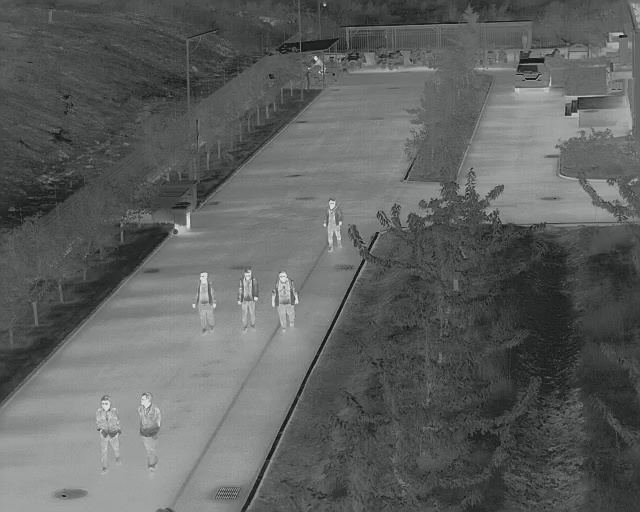person: (97, 396, 120, 474), (139, 393, 158, 473), (273, 273, 298, 330), (192, 272, 215, 331), (239, 270, 256, 327), (325, 197, 340, 249)
vehicle: (518, 58, 552, 93)
